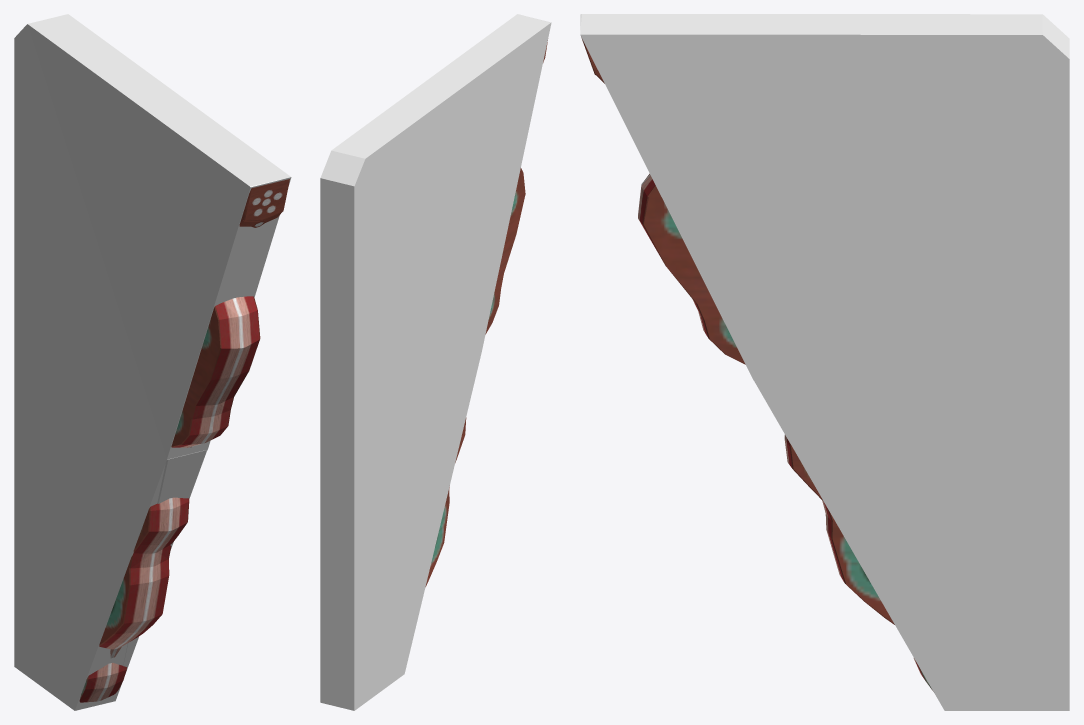
Rendered from SM_GCM_GongpoD.fbx.
3 views of the same model, side by side, from view 1: azimuth 30°, elevation 25°; view 2: azimuth 150°, elevation 25°; view 3: azimuth 270°, elevation 25° (orthographic). The views are drawn at different scales.
Parts seen in each view (by area): view 1: SM_GCM_GongpoD_ConvexHulls, SM_GCM_GongpoD; view 2: SM_GCM_GongpoD_ConvexHulls, SM_GCM_GongpoD; view 3: SM_GCM_GongpoD_ConvexHulls, SM_GCM_GongpoD.
Part boxes in pixels (bbox=[...]): SM_GCM_GongpoD_ConvexHulls: bbox=[14, 14, 291, 710]; SM_GCM_GongpoD: bbox=[79, 179, 289, 702]; SM_GCM_GongpoD_ConvexHulls: bbox=[320, 14, 551, 710]; SM_GCM_GongpoD: bbox=[425, 40, 547, 586]; SM_GCM_GongpoD_ConvexHulls: bbox=[580, 14, 1069, 710]; SM_GCM_GongpoD: bbox=[581, 37, 933, 691].
Bounding box in the file's own units: 8.87 × 135 × 88.56.
2 materials, 1 textured.
